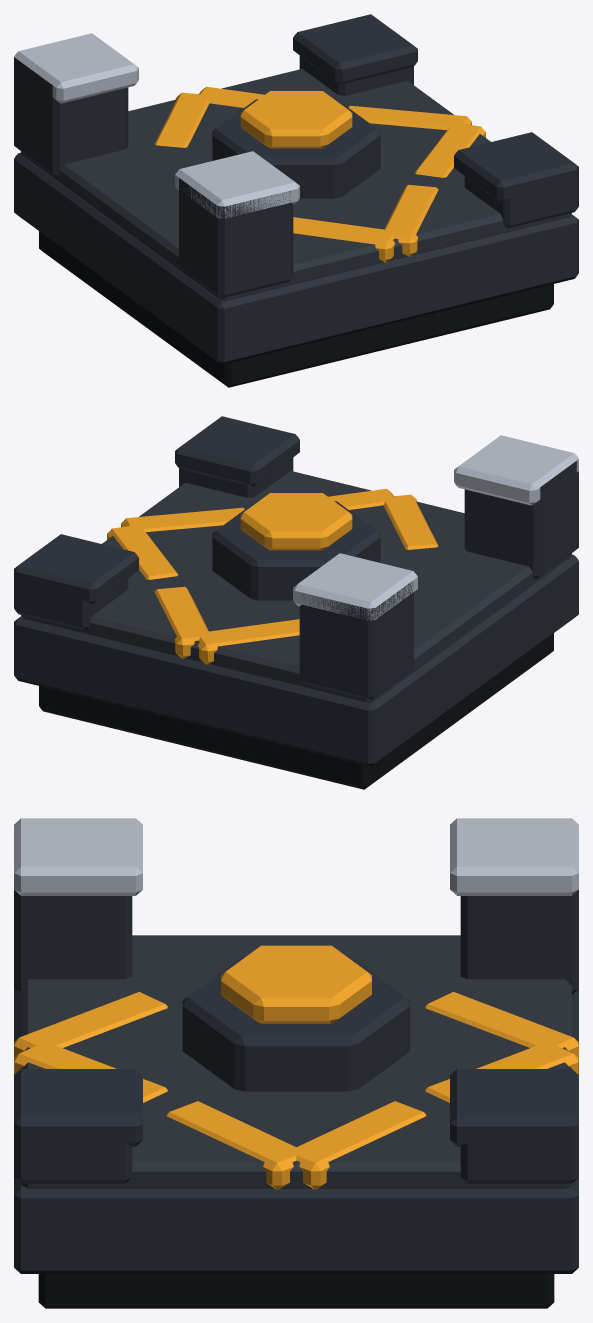
File: belt-splitter.glb
The picture shows the model from 3 angles, top to bottom: view 1: azimuth 30°, elevation 25°; view 2: azimuth 150°, elevation 25°; view 3: azimuth 270°, elevation 25°; orthographic projection. The views are drawn at different scales.
Parts seen in each view (by area): view 1: belt-splitter; view 2: belt-splitter; view 3: belt-splitter.
Boxes of the visible parts, x1=… form: belt-splitter: x1=14, y1=14, x2=578, y2=387; belt-splitter: x1=14, y1=416, x2=578, y2=789; belt-splitter: x1=14, y1=818, x2=578, y2=1308.
Bounding box in the file's own units: 0.9641 × 0.55 × 0.9642.
